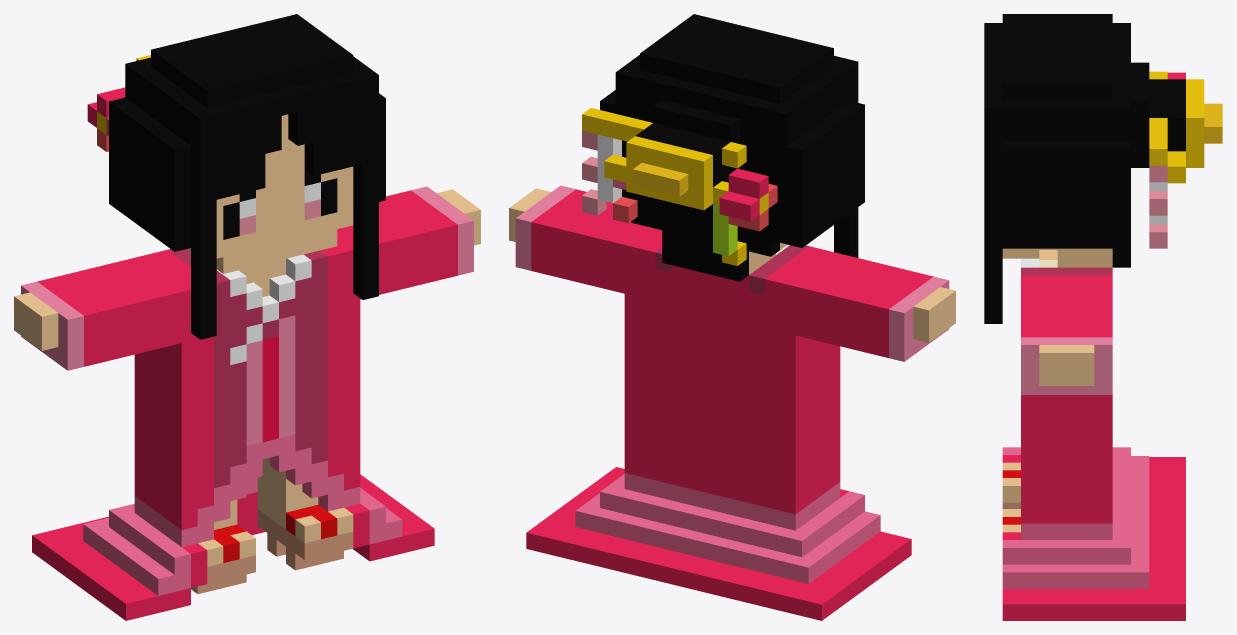
Rendered from atsuhime.glb.
3 renders of one model, left to right at view 1: azimuth 30°, elevation 25°; view 2: azimuth 150°, elevation 25°; view 3: azimuth 270°, elevation 25°, orthographic. The views are drawn at different scales.
Parts seen in each view (by area): view 1: Untitled; view 2: Untitled; view 3: Untitled.
Part boxes in pixels (left/top/right/bottom): Untitled: left=14, top=14, right=480, bottom=620; Untitled: left=509, top=14, right=955, bottom=620; Untitled: left=984, top=14, right=1222, bottom=620.
Size of the model in its own units: 1.35 by 1.5 by 0.65.
Materials: 1 (1 with a texture image).
